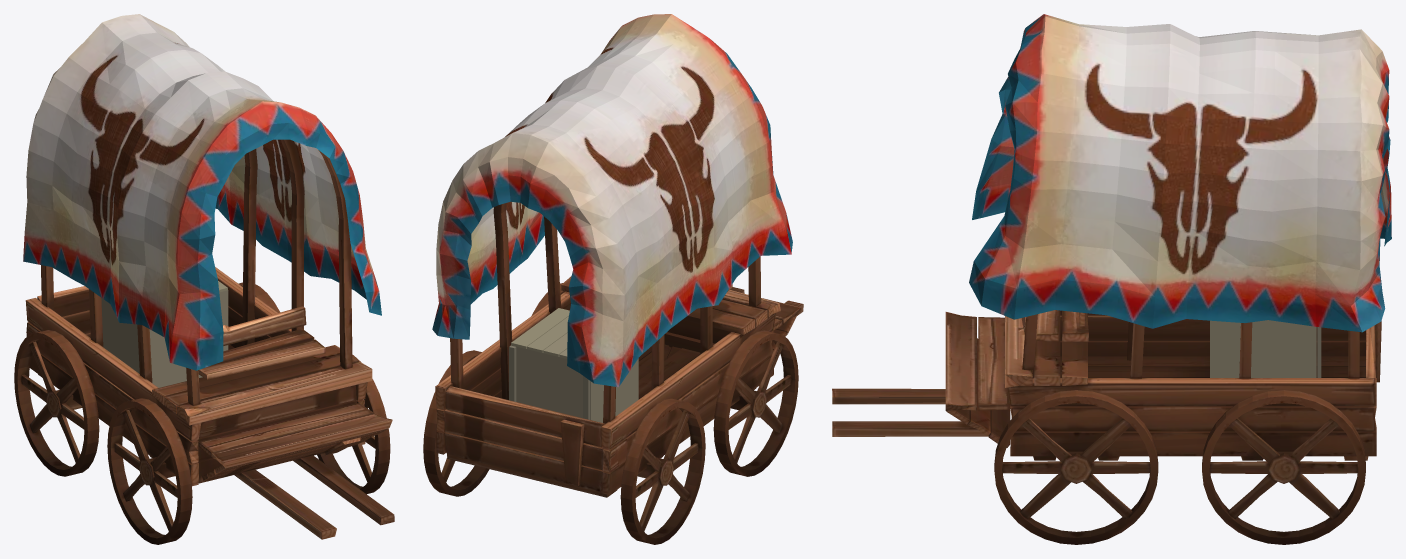
File: astra_t01.glb
The picture shows the model from 3 angles, left to right: view 1: azimuth 30°, elevation 25°; view 2: azimuth 150°, elevation 25°; view 3: azimuth 270°, elevation 25°; orthographic projection. The views are drawn at different scales.
Visible parts, largest first — view 1: slot_canvas_top, slot_anchor_frame, slot_front_wheels, cargo_crate; view 2: slot_canvas_top, slot_anchor_frame, slot_front_wheels, cargo_crate, wood_plank_4, wood_plank_3; view 3: slot_canvas_top, slot_anchor_frame, slot_front_wheels, cargo_crate.
Boxes of the visible parts, x1,y1,x2,y2 form: slot_canvas_top: (23, 14, 381, 370); slot_anchor_frame: (14, 139, 394, 539); slot_front_wheels: (107, 354, 390, 544); cargo_crate: (101, 290, 228, 387); slot_canvas_top: (432, 14, 792, 387); slot_anchor_frame: (423, 203, 803, 544); slot_front_wheels: (531, 283, 798, 476); cargo_crate: (510, 345, 638, 422); wood_plank_4: (511, 308, 569, 348); wood_plank_3: (527, 316, 568, 352); slot_canvas_top: (969, 14, 1391, 332); slot_anchor_frame: (832, 310, 1381, 544); slot_front_wheels: (994, 390, 1158, 544); cargo_crate: (1210, 320, 1316, 377).
Bounding box in the file's own units: 0.9702 × 1.86 × 2.
9 materials, 1 textured.
